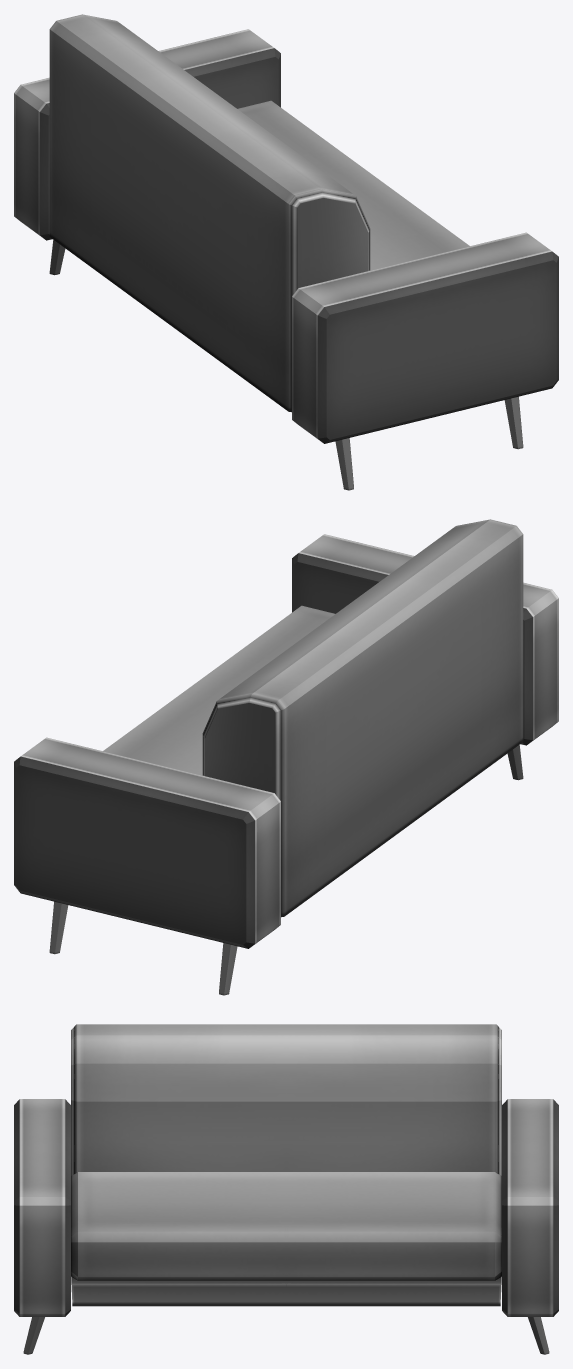
File: Sofa.fbx
3 renders of one model, top to bottom at view 1: azimuth 30°, elevation 25°; view 2: azimuth 150°, elevation 25°; view 3: azimuth 270°, elevation 25°, orthographic. The views are drawn at different scales.
Parts seen in each view (by area): view 1: pCube2; view 2: pCube2; view 3: pCube2.
Part boxes in pixels (x1=…): pCube2: x1=14, y1=14, x2=558, y2=490; pCube2: x1=14, y1=519, x2=558, y2=995; pCube2: x1=14, y1=1024, x2=558, y2=1354.
Size of the model in its own units: 1.24 by 1.37 by 2.77.
